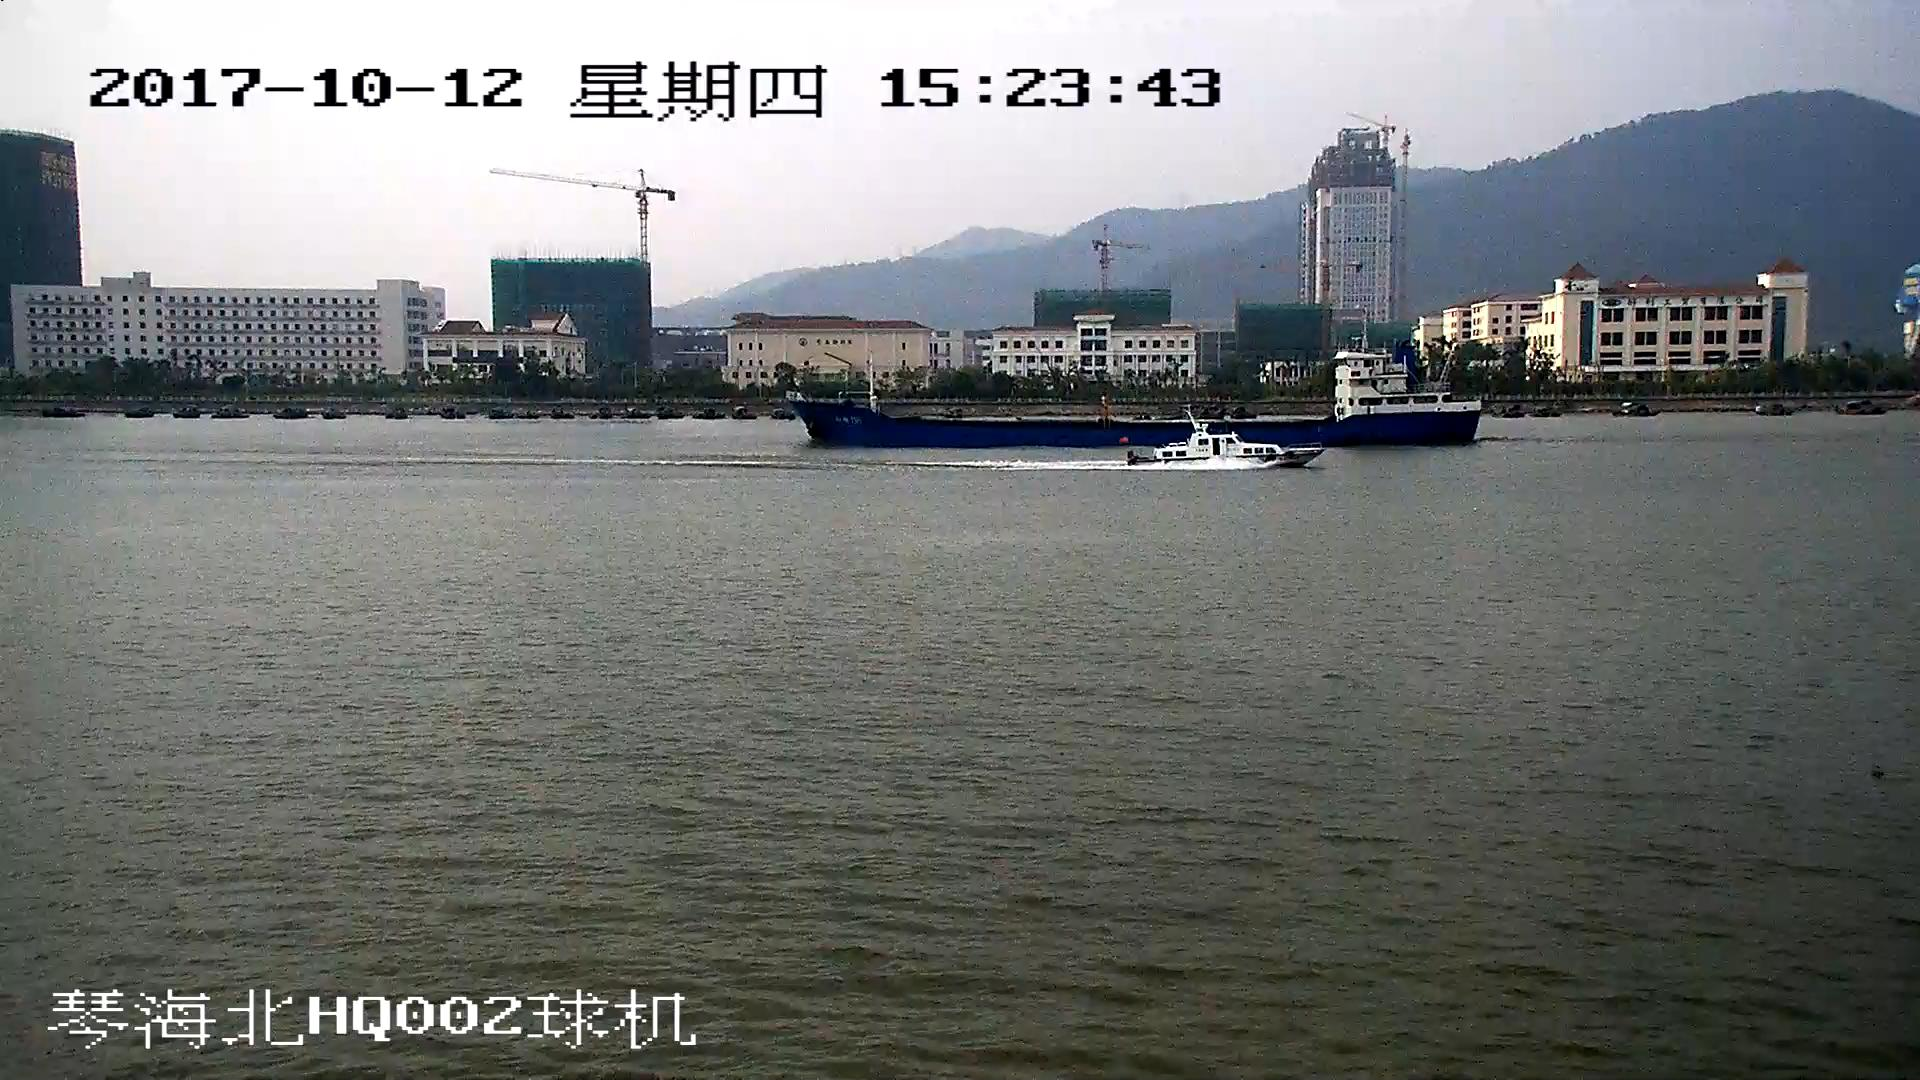bulk cargo carrier: (794, 335, 1477, 450)
passenger ship: (1127, 435, 1318, 472)
